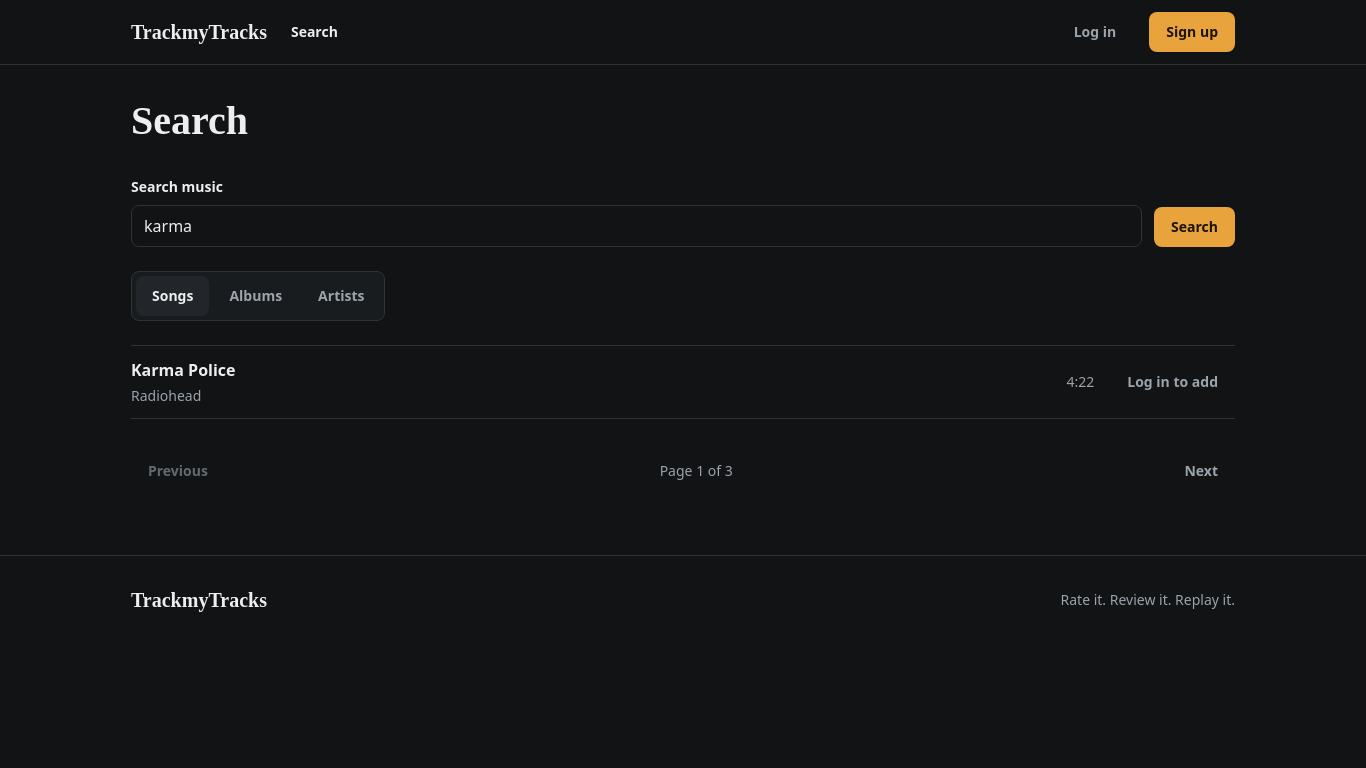
SearchPage › pages through results
Click the button "Next": (1201, 471) [1168,451,1235,491]
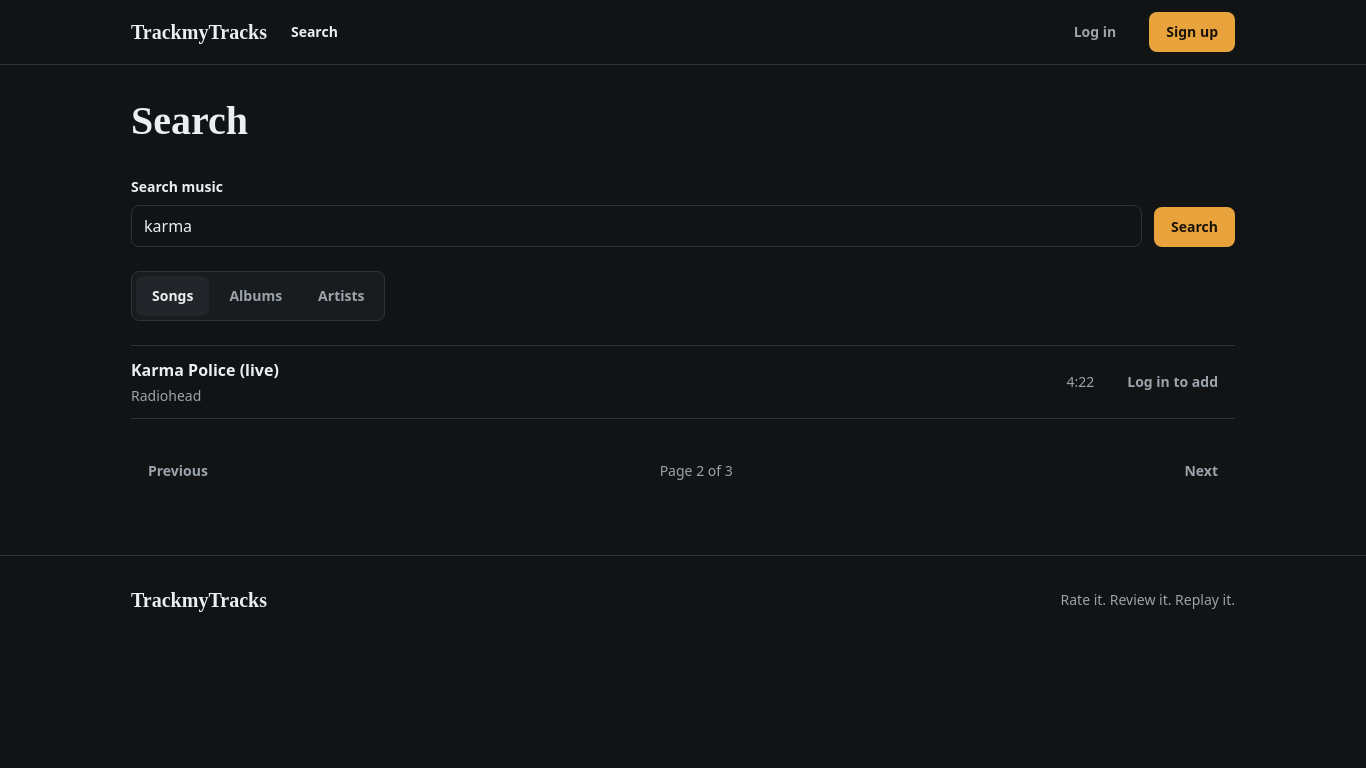
Result: the link "Karma Police (live)" is shown at [131,359,279,381]
